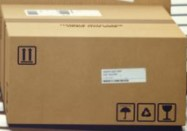stock: (1, 5, 186, 125)
